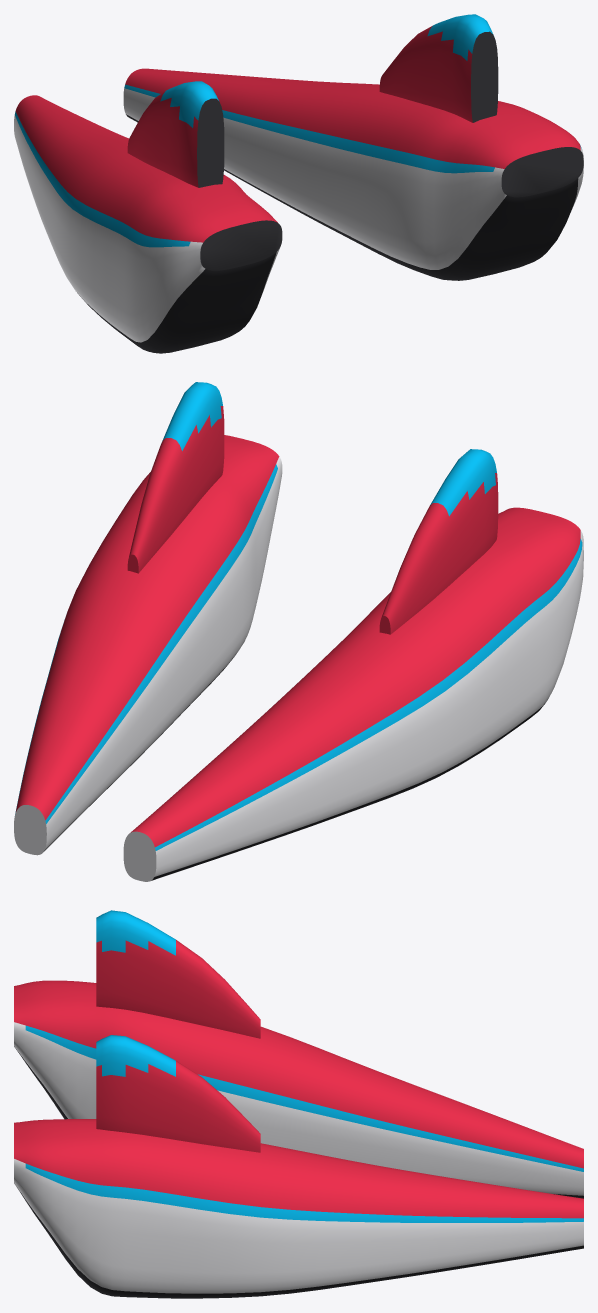
File: periscope.glb
3 views of the same model, one above another, from view 1: azimuth 30°, elevation 25°; view 2: azimuth 150°, elevation 25°; view 3: azimuth 270°, elevation 25° (orthographic). The views are drawn at different scales.
Visible parts, largest first — view 1: Sidepods_periscope; view 2: Sidepods_periscope; view 3: Sidepods_periscope.
Boxes of the visible parts, <box> form: Sidepods_periscope: <box>14,14,583,353</box>; Sidepods_periscope: <box>14,382,583,881</box>; Sidepods_periscope: <box>14,910,583,1298</box>.
Size of the model in its own units: 1.53 by 0.9273 by 1.94.
